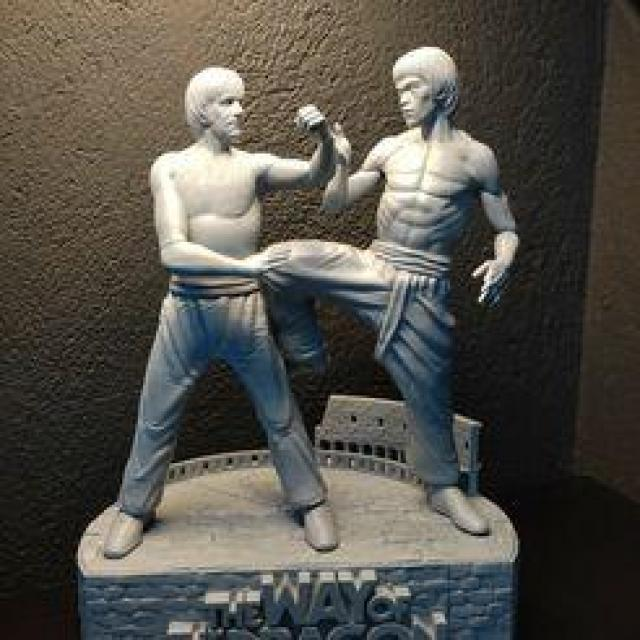Without deffect: (87, 26, 529, 640)
